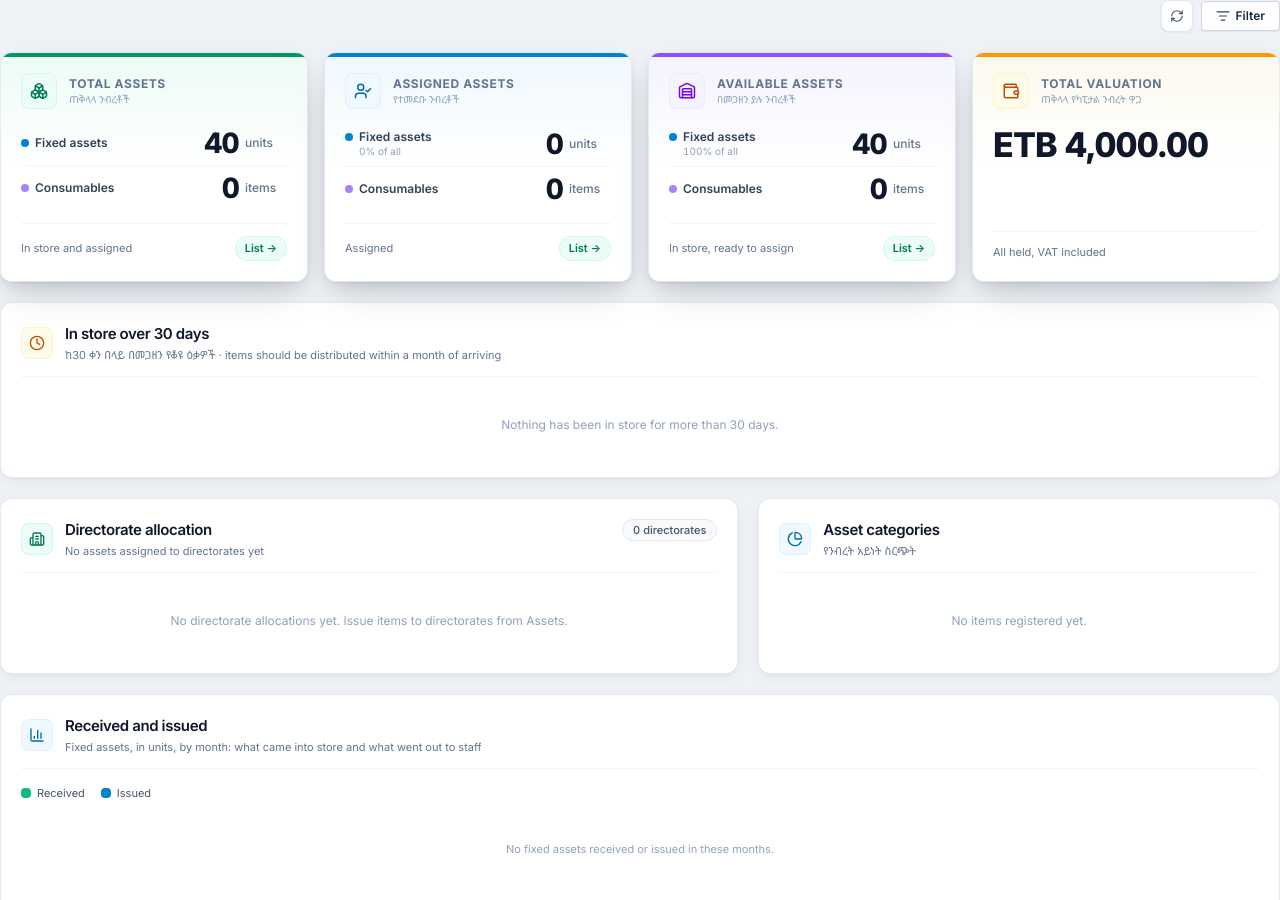
Test: Dashboard filters › narrows to a custom range, open at either end
The width and height of the screenshot is (1280, 900).
Click the button with aria-label "Filter the dashboard" at point(1240, 16), box [1200,1,1279,31]
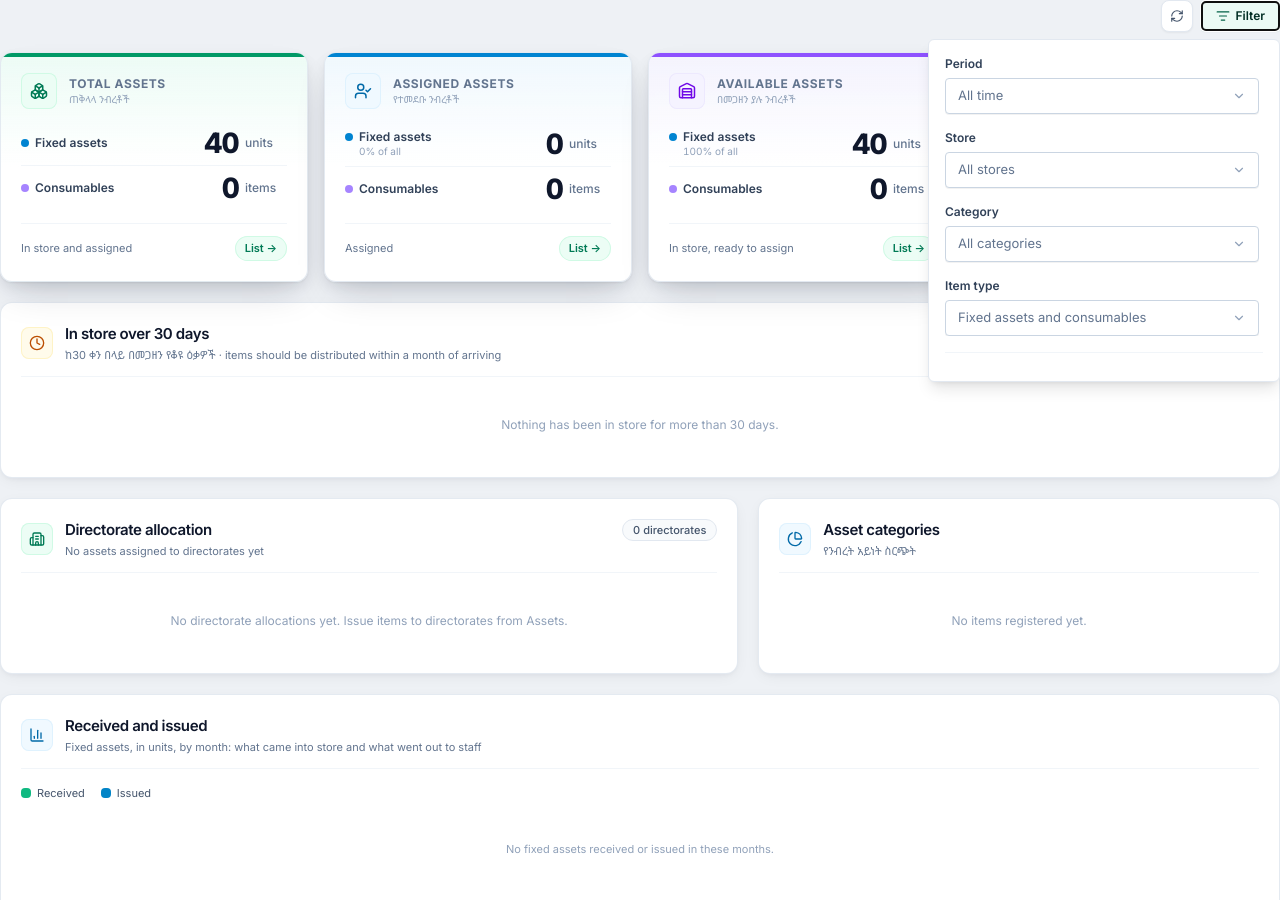
Select "Custom range…" in the dropdown named "All time" at point(964, 64), box [945,56,982,72]
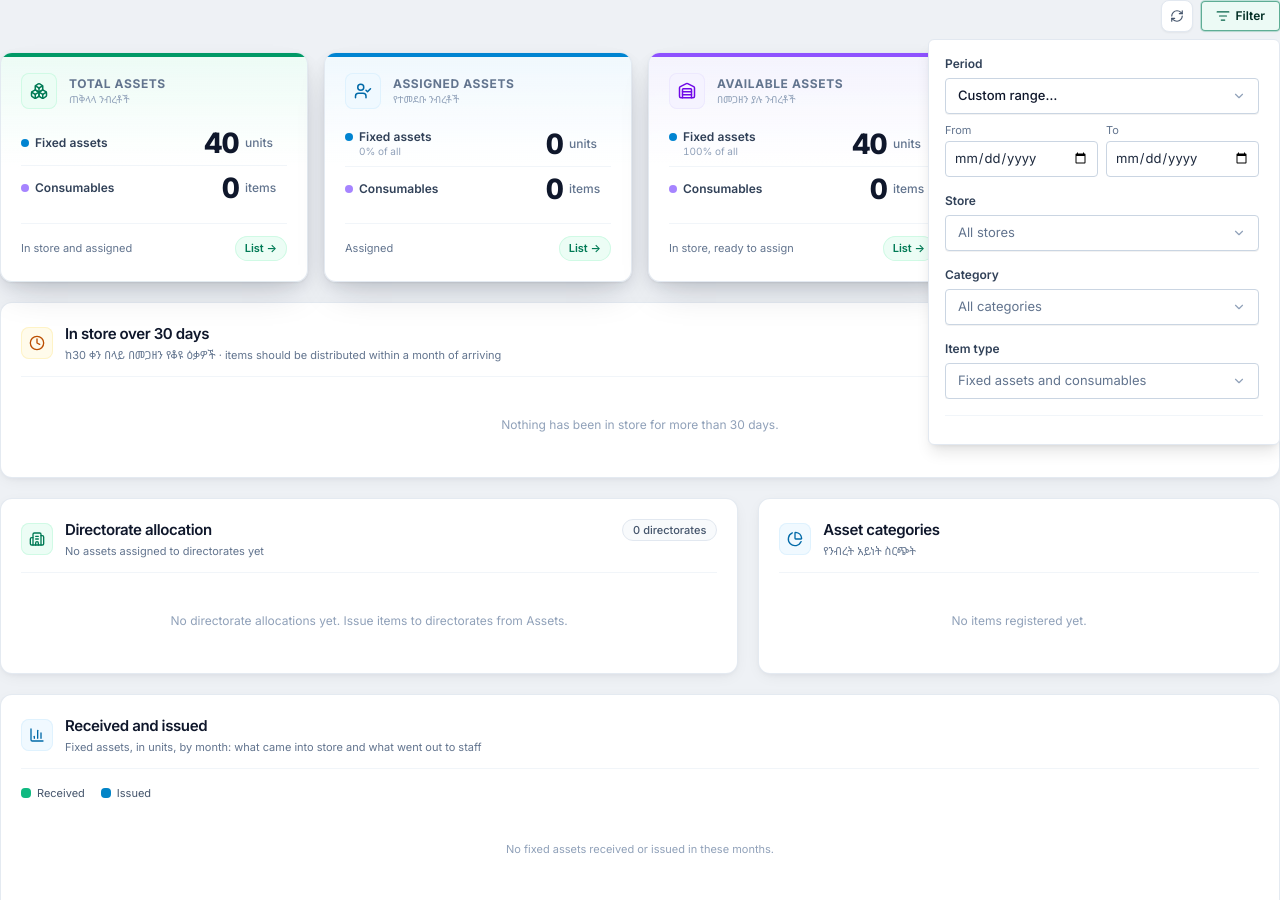
Type "2026-07-08" into the date field labelled "From" at point(1022, 158), box [945,140,1098,176]
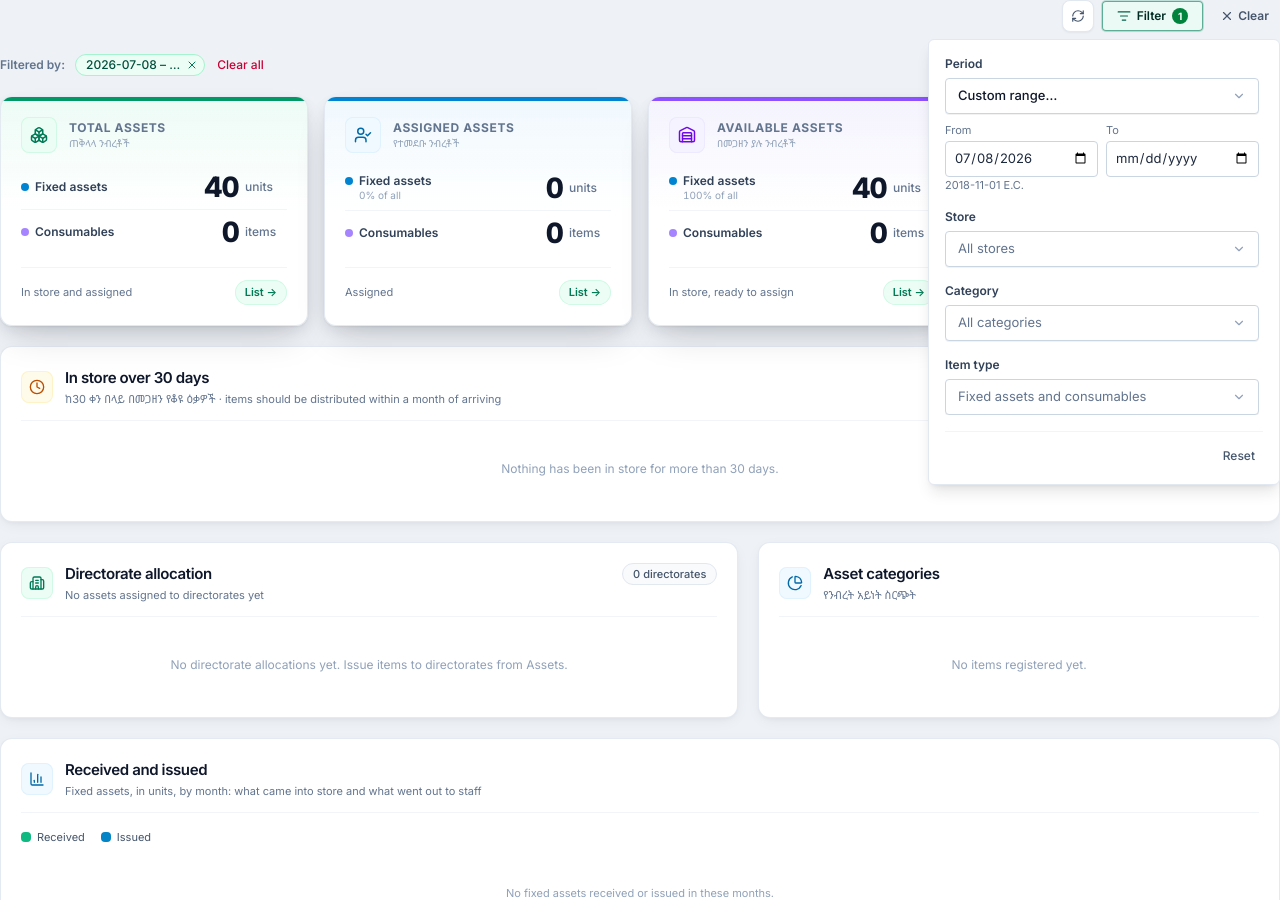
Expected: the button named "Remove filter 2026-07-08 – …" is shown, [184,57,200,73]
Expected: the text "2018-11-01 E.C." is shown, [945,178,1024,192]
